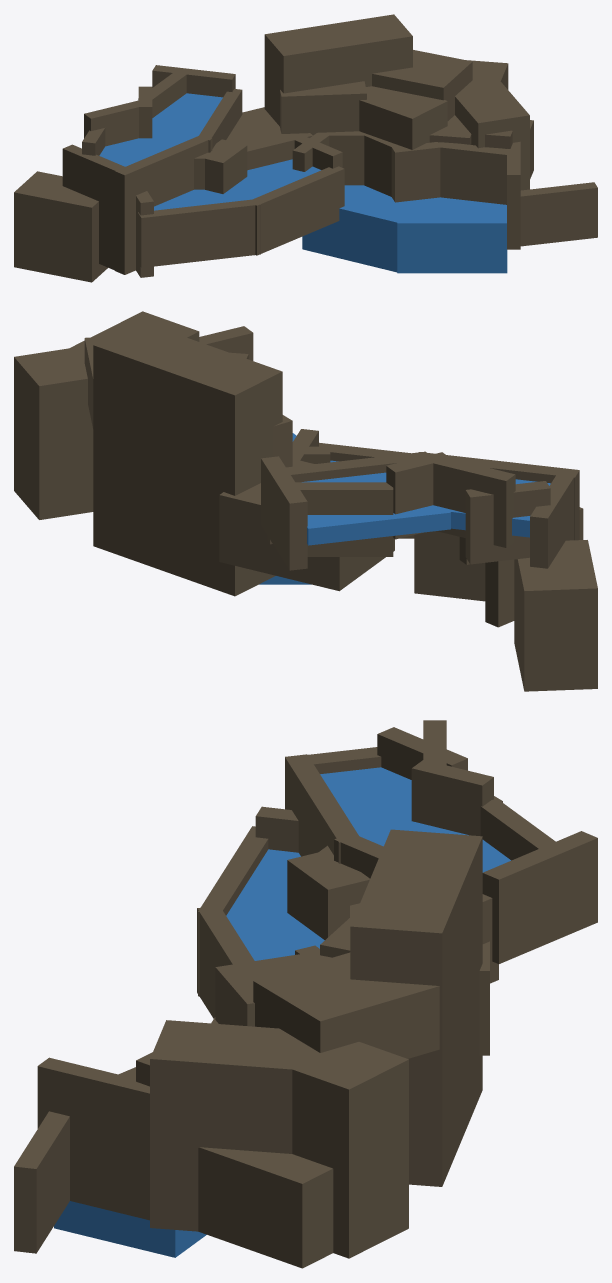
Rendered from CleanupWaterShelves.fbx.
3 renders of one model, top to bottom at view 1: azimuth 30°, elevation 25°; view 2: azimuth 150°, elevation 25°; view 3: azimuth 270°, elevation 25°, orthographic. The views are drawn at different scales.
Visible parts, largest first — view 1: Floor_03__449_, Floor_03__453_, Water__17_, Water__25__2, Water__18_, Water__25__1, Water__26__1, Water__25_, Floor_03__451_, Floor_03__455_, Water__22_, Floor_03__452_ (+25 smaller); view 2: Floor_03__449_, Floor_03__450_, Floor_03__453_, Water__22__2, Water__22__1, Water__25__1, Water__17__1, Water__24__1, Water__20__1, Water__21__1, Water__19__1, Water__23__1 (+11 smaller); view 3: Floor_03__449_, Floor_03__450_, Floor_03__455_, Floor_03__459_, Floor_03__454_, Water__20_, Water__20__1, Water__25_, Water__18__1, Water__23__2, Water__23__1, Water__25__1 (+15 smaller).
Boxes of the visible parts, left/top/right/bottom form: Floor_03__449_: left=264, top=14, right=412, bottom=126; Floor_03__453_: left=14, top=171, right=107, bottom=282; Water__17_: left=397, top=197, right=507, bottom=273; Water__25__2: left=138, top=199, right=260, bottom=267; Water__18_: left=302, top=185, right=429, bottom=272; Water__25__1: left=115, top=135, right=212, bottom=274; Water__26__1: left=248, top=166, right=344, bottom=255; Water__25_: left=520, top=182, right=597, bottom=246; Floor_03__451_: left=359, top=86, right=447, bottom=149; Floor_03__455_: left=455, top=81, right=529, bottom=190; Water__22_: left=438, top=142, right=519, bottom=204; Floor_03__452_: left=280, top=81, right=366, bottom=135; Floor_03__449_: left=93, top=321, right=282, bottom=596; Floor_03__450_: left=14, top=346, right=93, bottom=519; Floor_03__453_: left=514, top=540, right=597, bottom=691; Water__22__2: left=219, top=460, right=394, bottom=591; Water__22__1: left=282, top=482, right=393, bottom=556; Water__25__1: left=414, top=452, right=579, bottom=601; Water__17__1: left=302, top=472, right=450, bottom=545; Water__24__1: left=431, top=456, right=515, bottom=547; Water__20__1: left=261, top=456, right=307, bottom=570; Water__21__1: left=465, top=481, right=550, bottom=564; Water__19__1: left=530, top=471, right=575, bottom=568; Water__23__1: left=386, top=452, right=450, bottom=539; Floor_03__449_: left=350, top=829, right=482, bottom=1186; Floor_03__450_: left=238, top=1029, right=408, bottom=1258; Floor_03__455_: left=150, top=1020, right=303, bottom=1231; Floor_03__459_: left=198, top=1147, right=333, bottom=1268; Floor_03__454_: left=253, top=952, right=439, bottom=1058; Water__20_: left=37, top=1057, right=149, bottom=1220; Water__20__1: left=482, top=831, right=597, bottom=963; Water__25_: left=14, top=1111, right=69, bottom=1253; Water__18__1: left=320, top=767, right=463, bottom=844; Water__23__2: left=287, top=849, right=369, bottom=939; Water__23__1: left=411, top=760, right=493, bottom=835; Water__25__1: left=285, top=754, right=360, bottom=863.
Size of the model in its own units: 999 by 350 by 626.
